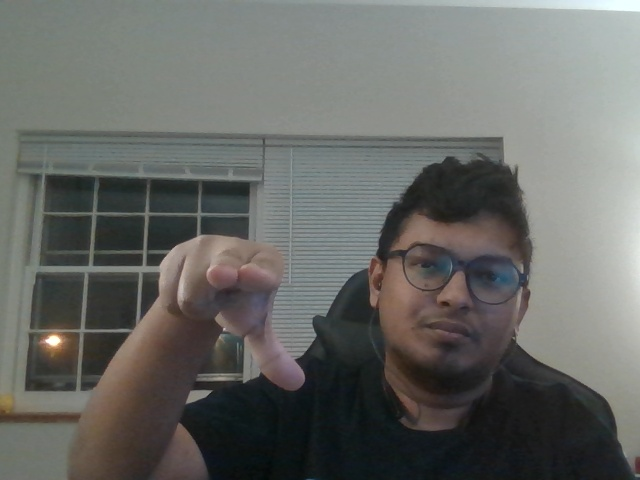no: (154, 217, 317, 402)
